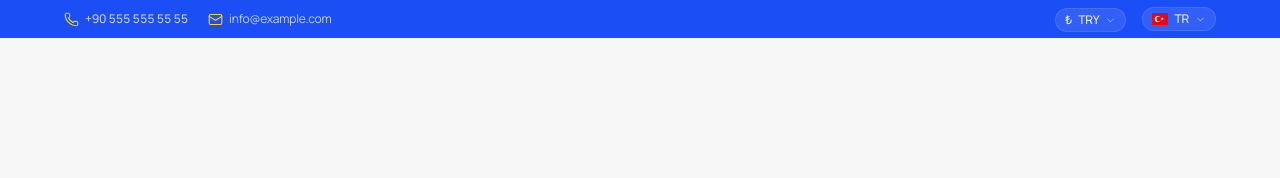
TopBar — Phase 10C dil değiştirici › 14) dil değiştirici açıkken currency seçici KAPALI kalır (bağımsız state)
Click the button with aria-label "Dil" at (1179, 19), box x1=1142 y1=7 x2=1216 y2=31
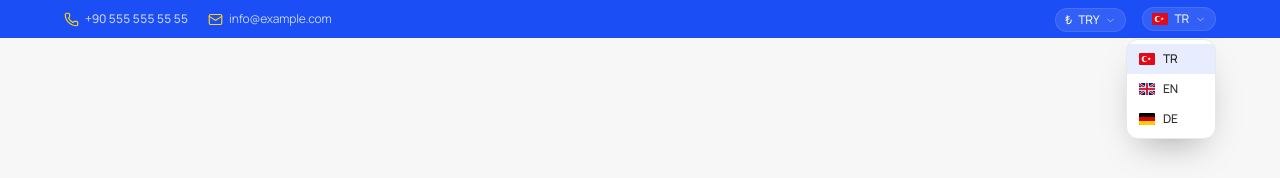
Expected: the option "TR" is shown, x1=1127 y1=44 x2=1215 y2=74
